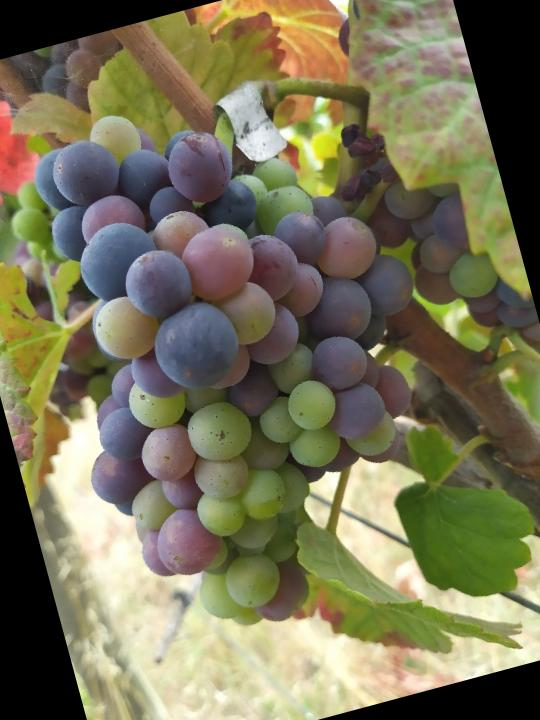grape: (0, 47, 495, 662)
